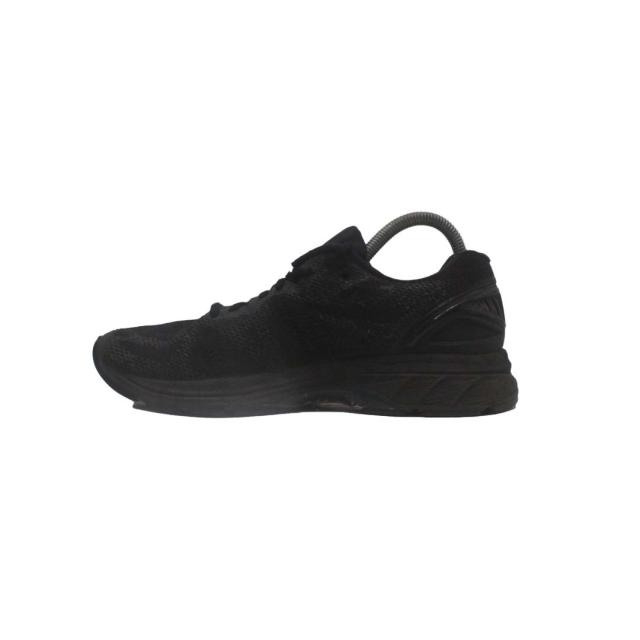heel: (460, 256, 504, 361)
midsole: (87, 334, 516, 420)
uppersole: (93, 223, 468, 376)
